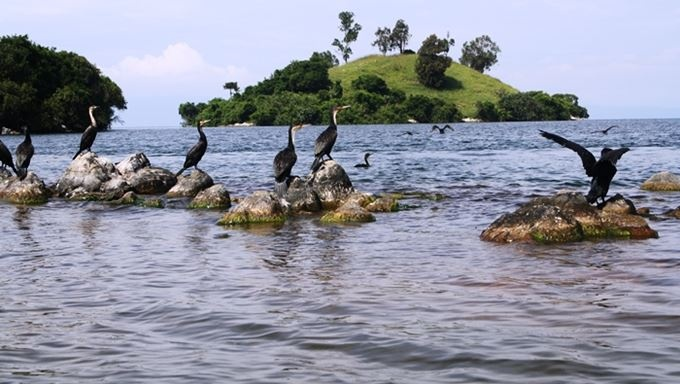bird: (534, 122, 631, 212), (306, 99, 353, 174), (170, 114, 216, 178), (270, 117, 311, 186), (70, 102, 102, 162), (11, 121, 39, 180)
